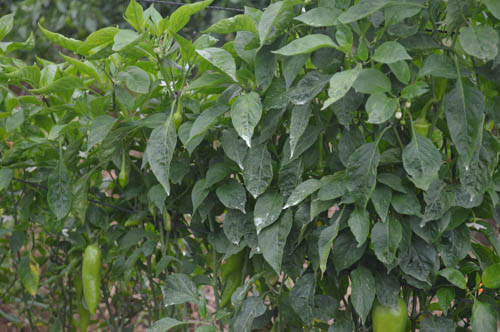ChiliPepper: (76, 244, 105, 313), (367, 305, 410, 328)
